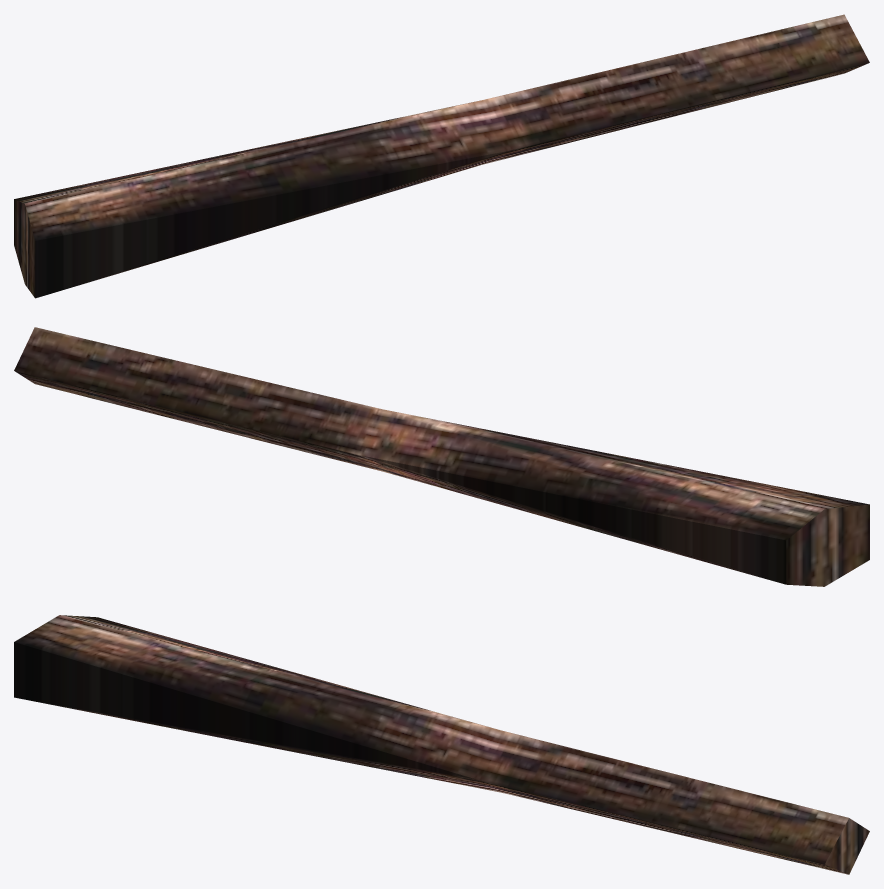
The model's file is PROSTA_REKOJESC.glb.
The picture shows the model from 3 angles, top to bottom: view 1: azimuth 30°, elevation 25°; view 2: azimuth 150°, elevation 25°; view 3: azimuth 330°, elevation 25°; orthographic projection. The views are drawn at different scales.
Parts seen in each view (by area): view 1: PROSTA_REKOJESC; view 2: PROSTA_REKOJESC; view 3: PROSTA_REKOJESC.
Boxes of the visible parts, bbox=[...] form: PROSTA_REKOJESC: bbox=[14, 14, 869, 298]; PROSTA_REKOJESC: bbox=[14, 327, 869, 586]; PROSTA_REKOJESC: bbox=[14, 615, 869, 874].
Size of the model in its own units: 0.3735 by 0.0343 by 0.0417.
1 material, 1 textured.
